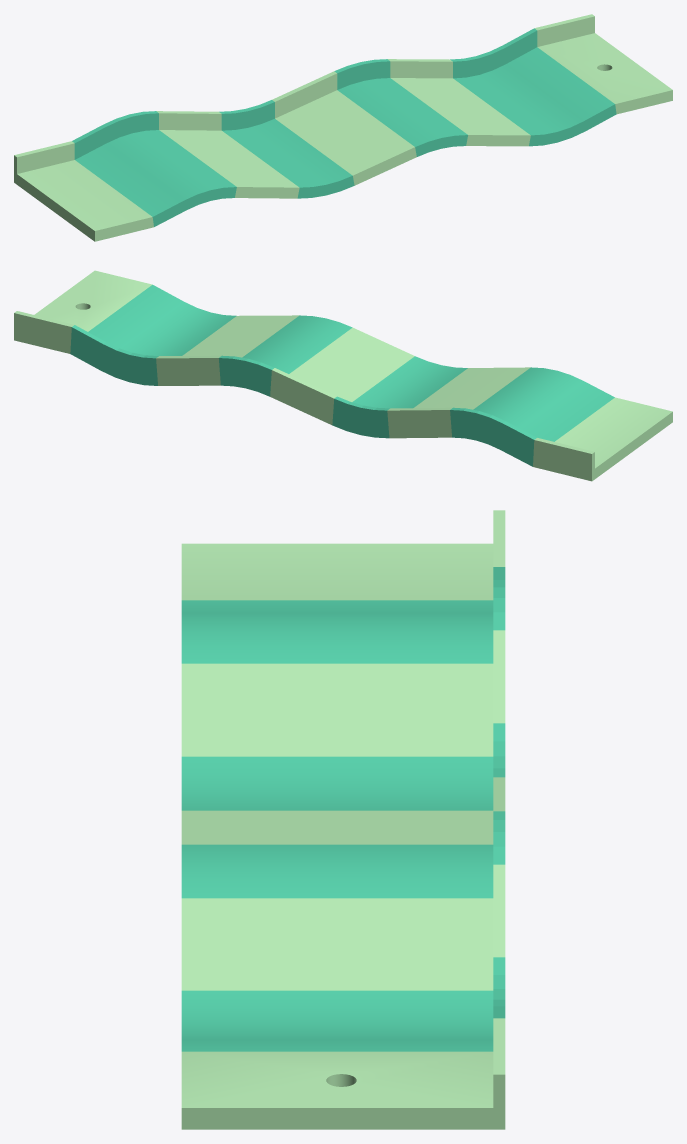
File: Ground_04.fbx
3 renders of one model, top to bottom at view 1: azimuth 30°, elevation 25°; view 2: azimuth 150°, elevation 25°; view 3: azimuth 270°, elevation 25°, orthographic. The views are drawn at different scales.
Visible parts, largest first — view 1: Ground_04; view 2: Ground_04; view 3: Ground_04.
Part boxes in pixels (x1,y1,x2,y2): Ground_04: [14, 14, 672, 241]; Ground_04: [14, 270, 672, 481]; Ground_04: [181, 510, 505, 1129].
Bounding box in the file's own units: 1113 × 98.98 × 270.
